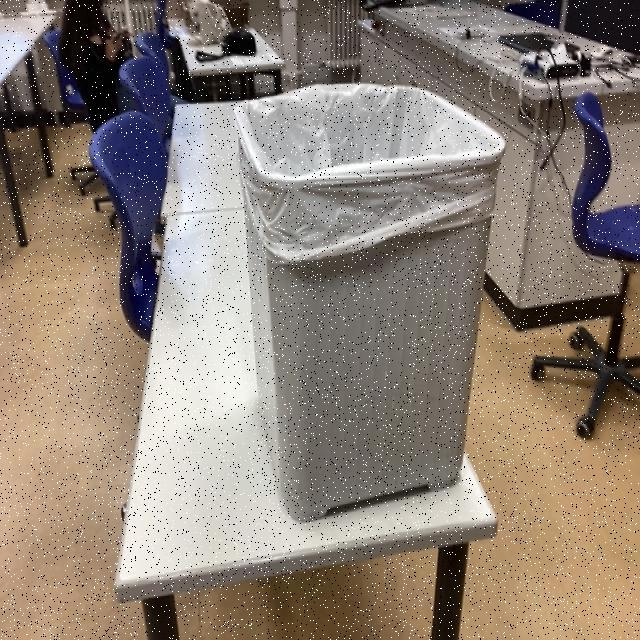garbage container: (224, 64, 521, 537)
